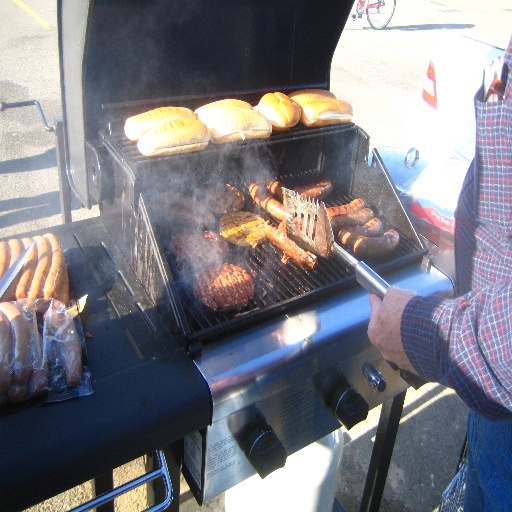hand: (368, 251, 430, 385)
